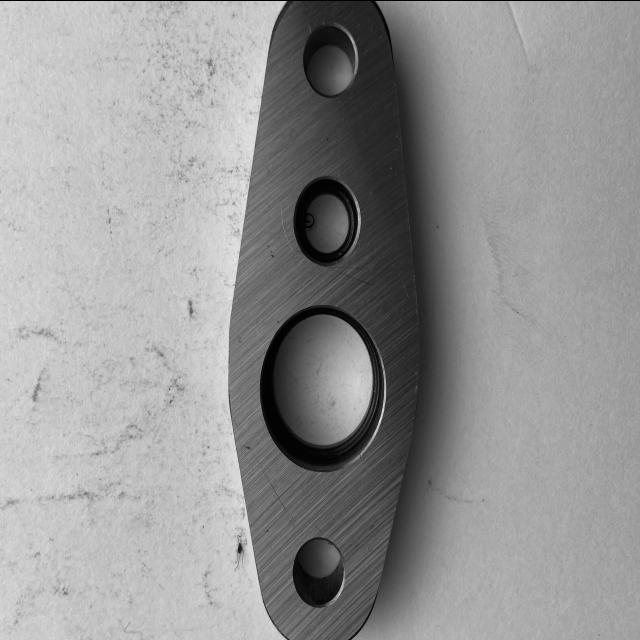chap: (306, 22, 314, 34)
lines: (260, 462, 286, 512), (330, 267, 374, 285), (278, 206, 294, 253)
